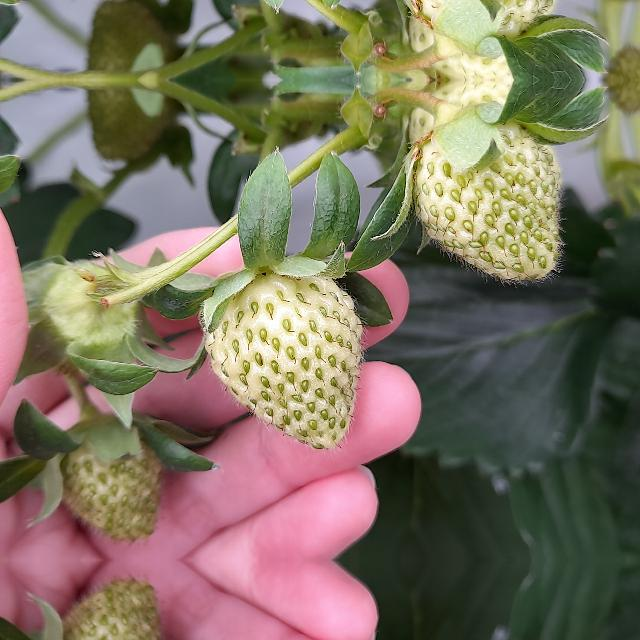Health_25: (204, 273, 362, 449), (409, 114, 565, 286), (50, 419, 176, 547), (49, 573, 176, 640), (409, 0, 565, 46)
